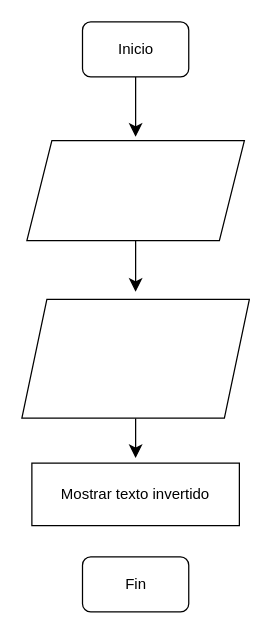
This 271x634 diagram has some shape labels left out. The centre of each missing label's shape, as x and y in pixels:
"Por favor, ingresa una palabra o frase:": [135,190]
leer texto ingresado por el usuario: [135,358]
